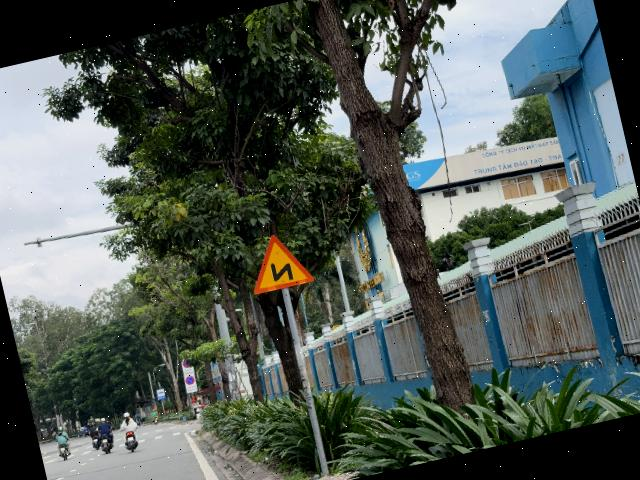nhieu-cho-ngoat-nguy-hiem-lien-tiep: (242, 227, 314, 295)
